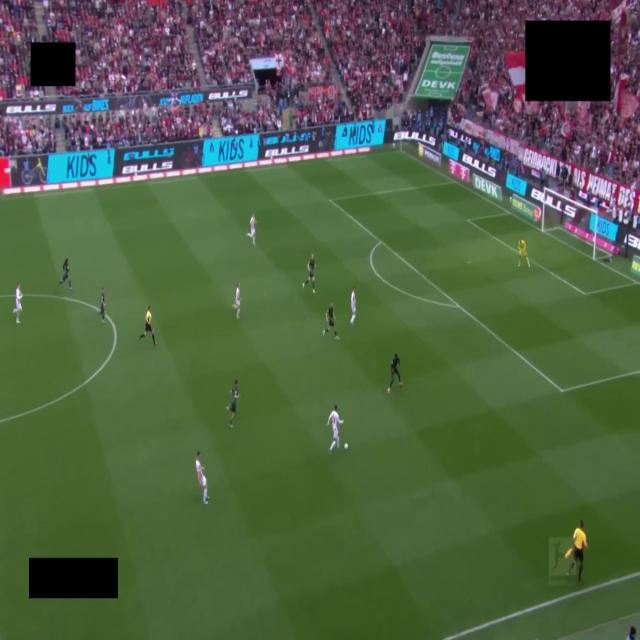ball: (344, 443, 348, 449)
player: (327, 405, 343, 453), (227, 379, 239, 428), (196, 452, 207, 504), (323, 304, 339, 339), (388, 353, 402, 393), (303, 255, 315, 293), (518, 238, 530, 266), (60, 258, 71, 288), (14, 283, 22, 323), (247, 213, 255, 245), (233, 284, 240, 318), (350, 288, 356, 325), (100, 287, 105, 323)
referee: (139, 306, 156, 345)
